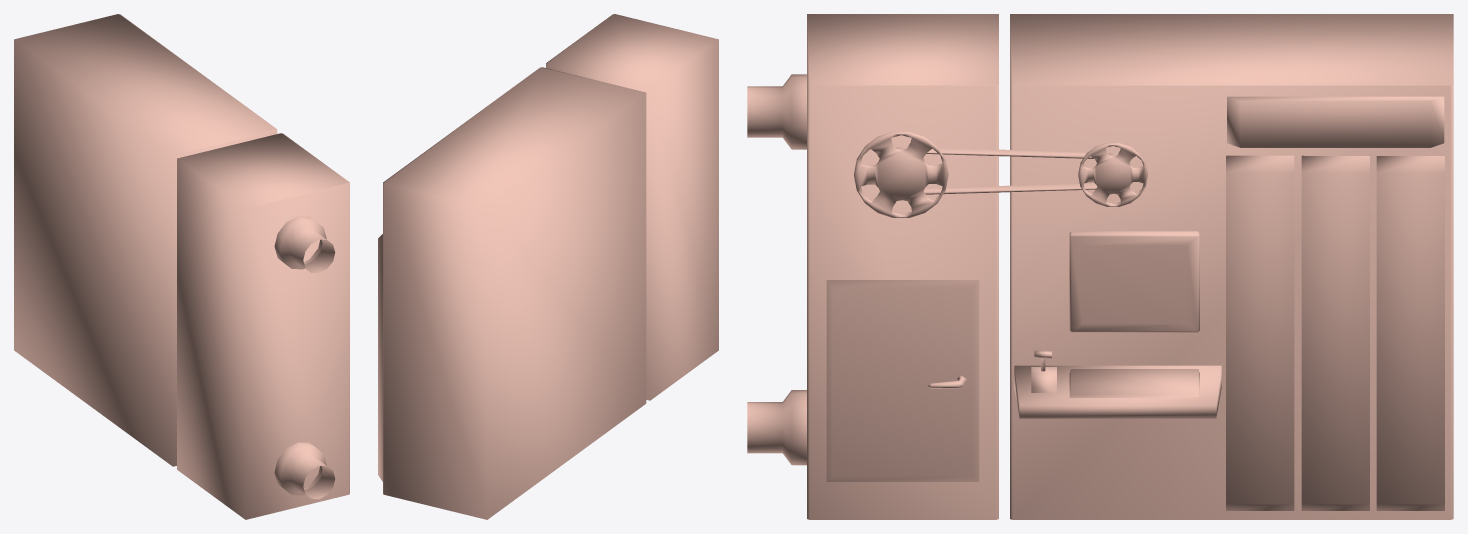
The model's file is mainframe1.fbx.
The picture shows the model from 3 angles, left to right: view 1: azimuth 30°, elevation 25°; view 2: azimuth 150°, elevation 25°; view 3: azimuth 270°, elevation 25°; orthographic projection. The views are drawn at different scales.
Visible parts, largest first — view 1: s_mainframe; view 2: s_mainframe; view 3: s_mainframe.
Boxes of the visible parts, x1,y1,x2,y2 form: s_mainframe: (14,14,349,519); s_mainframe: (378,14,718,519); s_mainframe: (747,14,1453,519).
Bounding box in the file's own units: 108 × 214 × 315.
